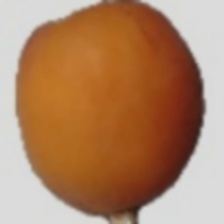apricot: (61, 33, 200, 191)
